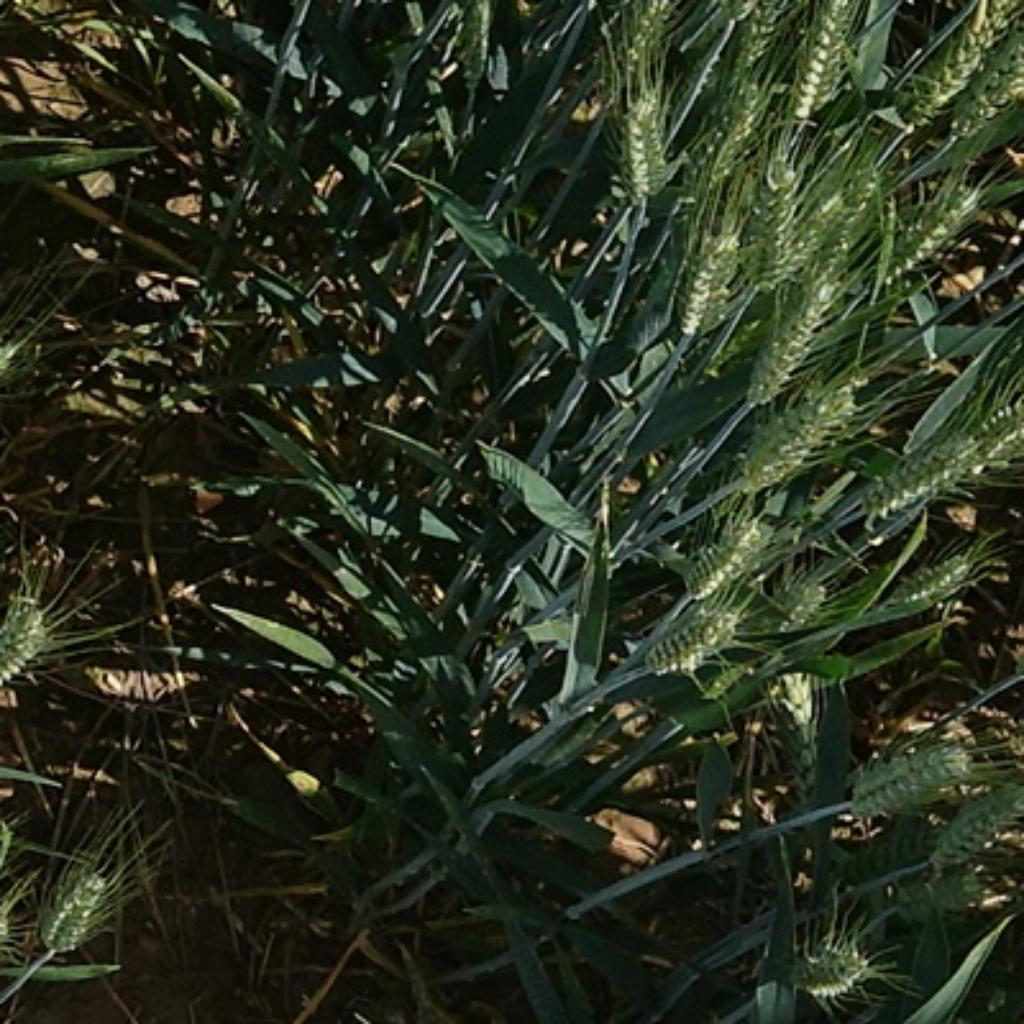0-0: (896, 0, 1021, 139), (768, 163, 883, 299), (744, 378, 862, 493), (846, 733, 984, 823), (849, 432, 988, 518), (737, 271, 826, 401), (734, 163, 819, 299), (875, 174, 980, 284), (683, 73, 767, 202), (665, 215, 747, 343), (604, 79, 675, 207), (780, 2, 852, 128), (629, 593, 742, 673), (680, 506, 778, 596), (773, 657, 830, 803), (38, 858, 113, 968), (933, 788, 1023, 870), (880, 540, 983, 611), (958, 42, 1023, 154), (783, 924, 875, 1003), (929, 395, 1024, 466), (0, 586, 58, 688), (883, 870, 986, 920), (455, 0, 503, 107), (605, 0, 661, 79), (765, 563, 832, 627), (734, 4, 779, 78)
